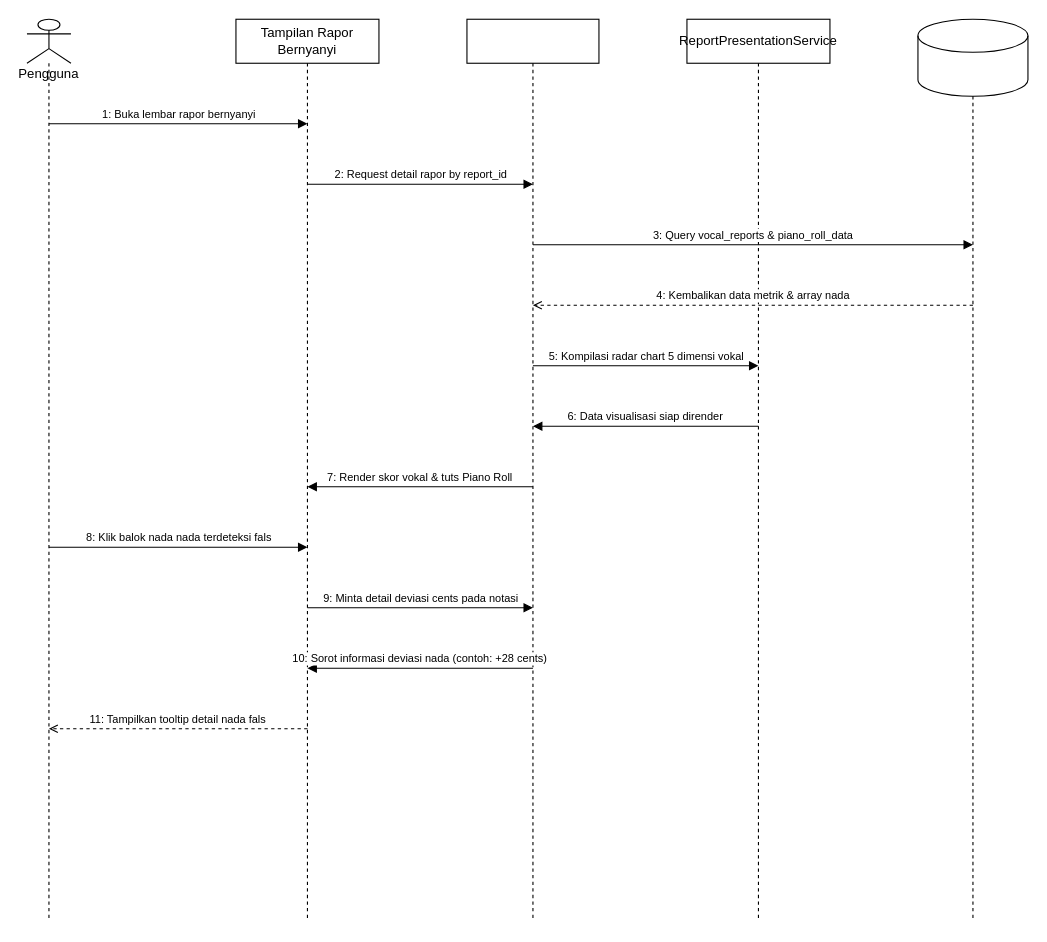
The diagram is 1047 pixels wide and 942 high, and some of its shapes have lost their labels. The shapes that lost their labels are listed below. From the top down, each one's box as (x1, y1, x2, y2) in pixels, then its label:
(917, 18, 1028, 96): <<Database>> VocalReportDB
(466, 18, 599, 921): ReportController
